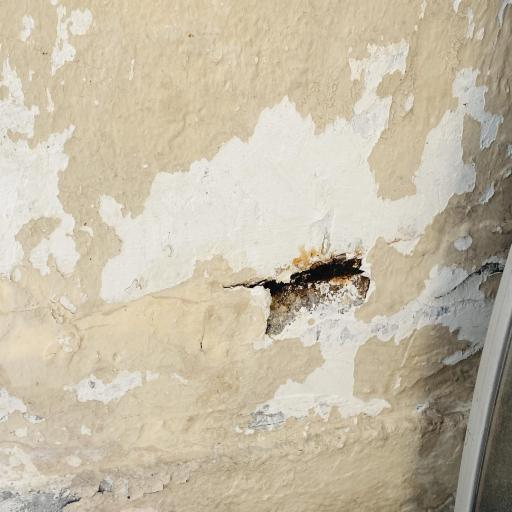exposed_rebar: (290, 256, 361, 286), (262, 281, 286, 295)
spalling: (246, 254, 369, 334)
